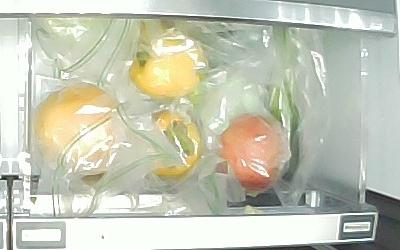apple_vinyl: (216, 112, 289, 193)
grapefruit_vinyl: (34, 82, 130, 188)
paprika_vinyl: (127, 31, 209, 100)
persimmon_vinyl: (139, 110, 201, 178)
